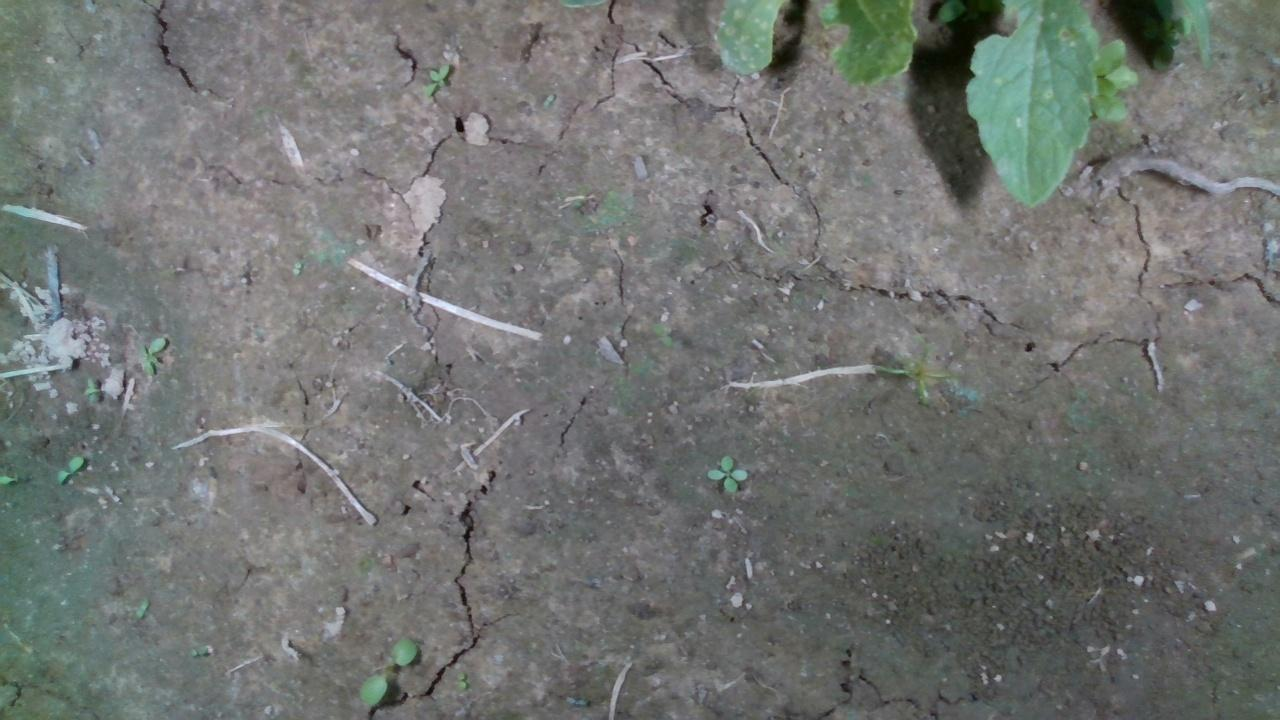weed: (356, 634, 417, 705), (705, 451, 748, 493), (135, 334, 167, 375), (54, 453, 85, 484), (421, 63, 449, 96), (83, 376, 101, 395), (454, 670, 467, 688)
